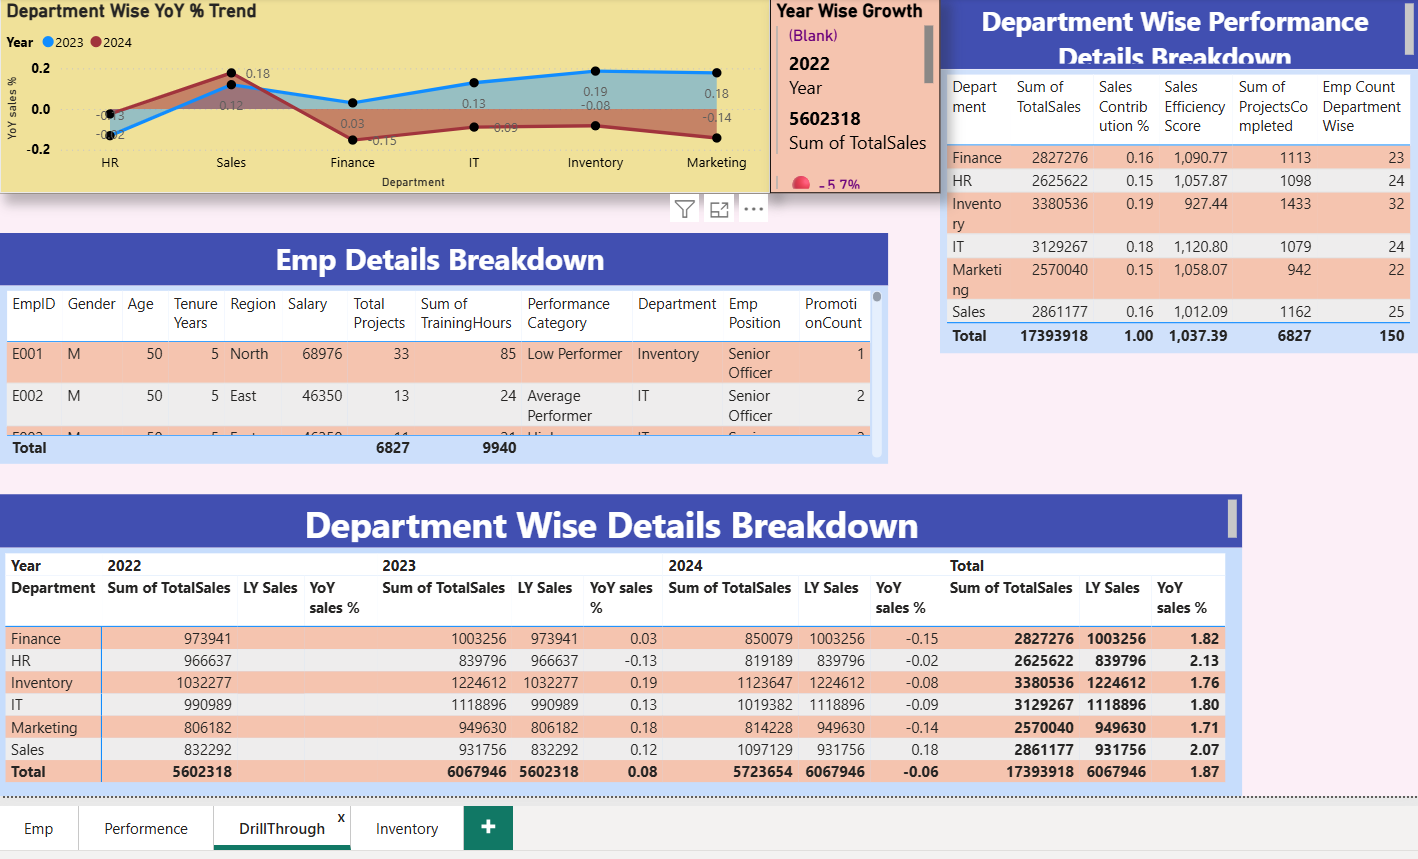

The page's visual inventory and layout, read from the dashboard file:
{"tool":"powerbi","page":{"name":"DrillThrough","canvas":[1280,720],"ordinal":2},"visuals":[{"type":"tableEx","fields":{"Values":["Employee_Master.EmpID","Employee_Master.Gender","Employee_Master.Age","Employee_Master.Tenure Years","Employee_Master.Region","Employee_Master.Salary","Employee_Performance.Total Projects","Sum(Employee_Performance.TrainingHours)","Employee_Performance.Performance Category","Employee_Master.Department","Employee_Master.Emp Position","Employee_Master.PromotionCount"]},"box":[0,259.3,800.5,160.5],"z":0},{"type":"tableEx","fields":{"Values":["Employee_Master.Department","Sum(Employee_Performance.TotalSales)","Employee_Performance.Sales Contribution %","Employee_Performance.Sales Efficiency Score","Sum(Employee_Performance.ProjectsCompleted)","Employee_Performance.Emp Count Department Wise"]},"box":[848,64,432,256],"z":1000},{"type":"pivotTable","fields":{"Values":["Sum(Employee_Performance.TotalSales)","Employee_Performance.LY Sales","Employee_Performance.YoY sales %"],"Columns":["Employee_Performance.Year"],"Rows":["Employee_Master.Department"]},"box":[0,496,1120,224],"z":2000},{"type":"lineChart","title":"Department Wise YoY % Trend","fields":{"Category":["Employee_Master.Department"],"Series":["Employee_Performance.Year"],"Y":["Employee_Performance.YoY sales %"]},"box":[0,0,694.5,175.9],"z":3000},{"type":"textbox","box":[0,448,1120,48],"z":4000},{"type":"textbox","box":[0,212,800.5,47.3],"z":5000},{"type":"textbox","box":[848,0,432,64],"z":6000},{"type":"multiRowCard","title":"Year Wise Growth","fields":{"Values":["Employee_Performance.YoY % with Emoji","Employee_Performance.Year","Sum(Employee_Performance.TotalSales)"]},"box":[694.5,0,153.3,175.9],"z":7000}]}

Visuals, with their boxes on the page's 1280x720 design canvas (x1, y1, x2, y2). These are canvas units, not pixel positions in the 1418x859 screenshot, which may show the page scaled, cropped or inside an application window:
tableEx - Employee_Master.EmpID x Employee_Master.Gender: <box>0,259,800,420</box>
tableEx - Employee_Master.Department x Sum(Employee_Performance.TotalSales): <box>848,64,1280,320</box>
pivotTable - Sum(Employee_Performance.TotalSales) x Employee_Performance.LY Sales: <box>0,496,1120,720</box>
"Department Wise YoY % Trend" lineChart: <box>0,0,694,176</box>
textbox: <box>0,448,1120,496</box>
textbox: <box>0,212,800,259</box>
textbox: <box>848,0,1280,64</box>
"Year Wise Growth" multiRowCard: <box>694,0,848,176</box>
